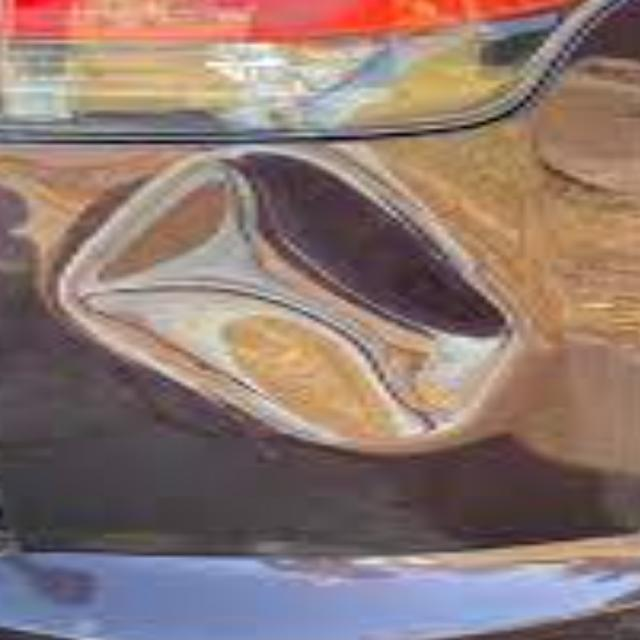dents: (64, 143, 590, 457)
